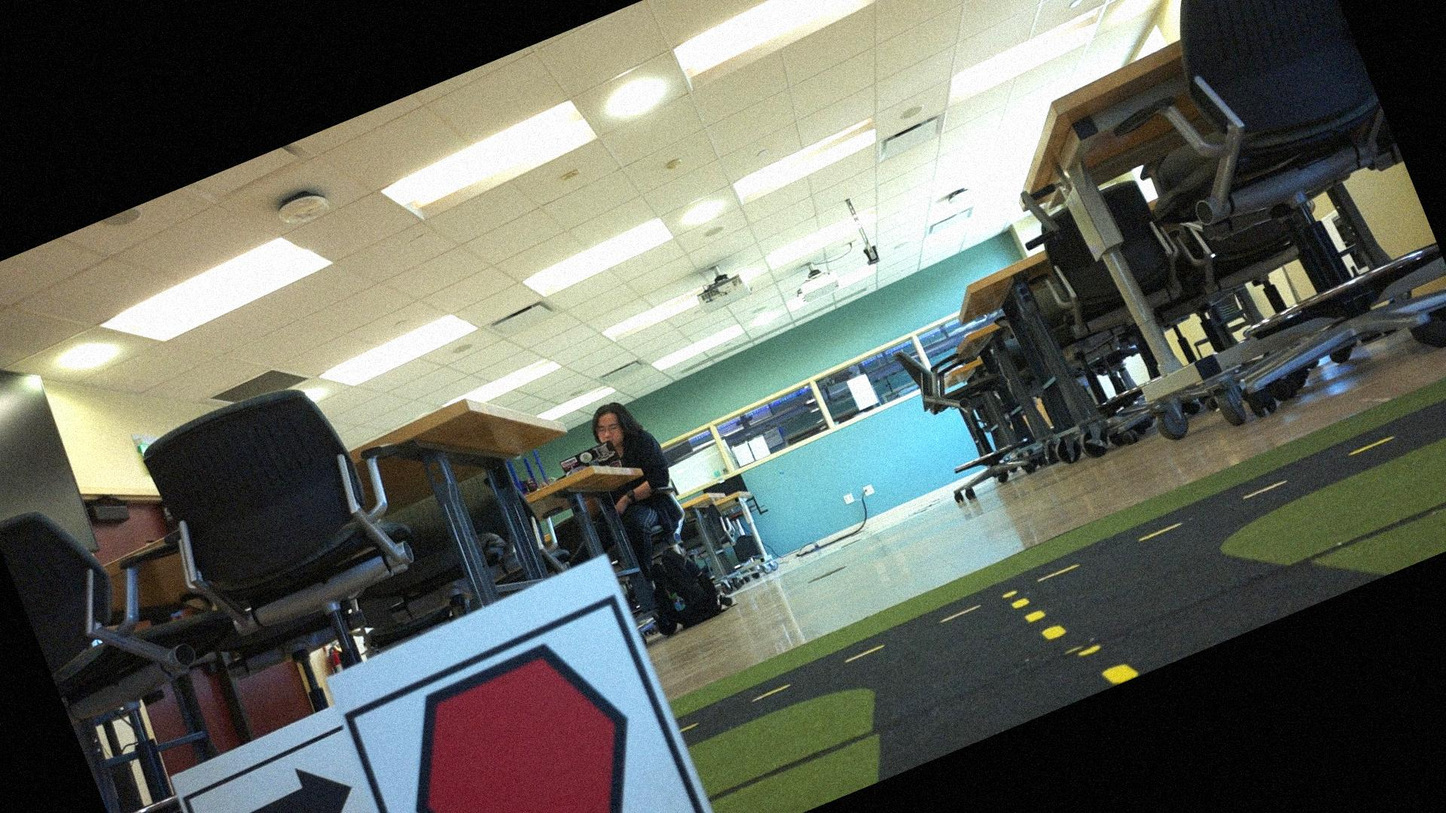stop: (362, 611, 686, 812)
turnright: (188, 739, 389, 812)
yellowline: (1014, 566, 1141, 708)
